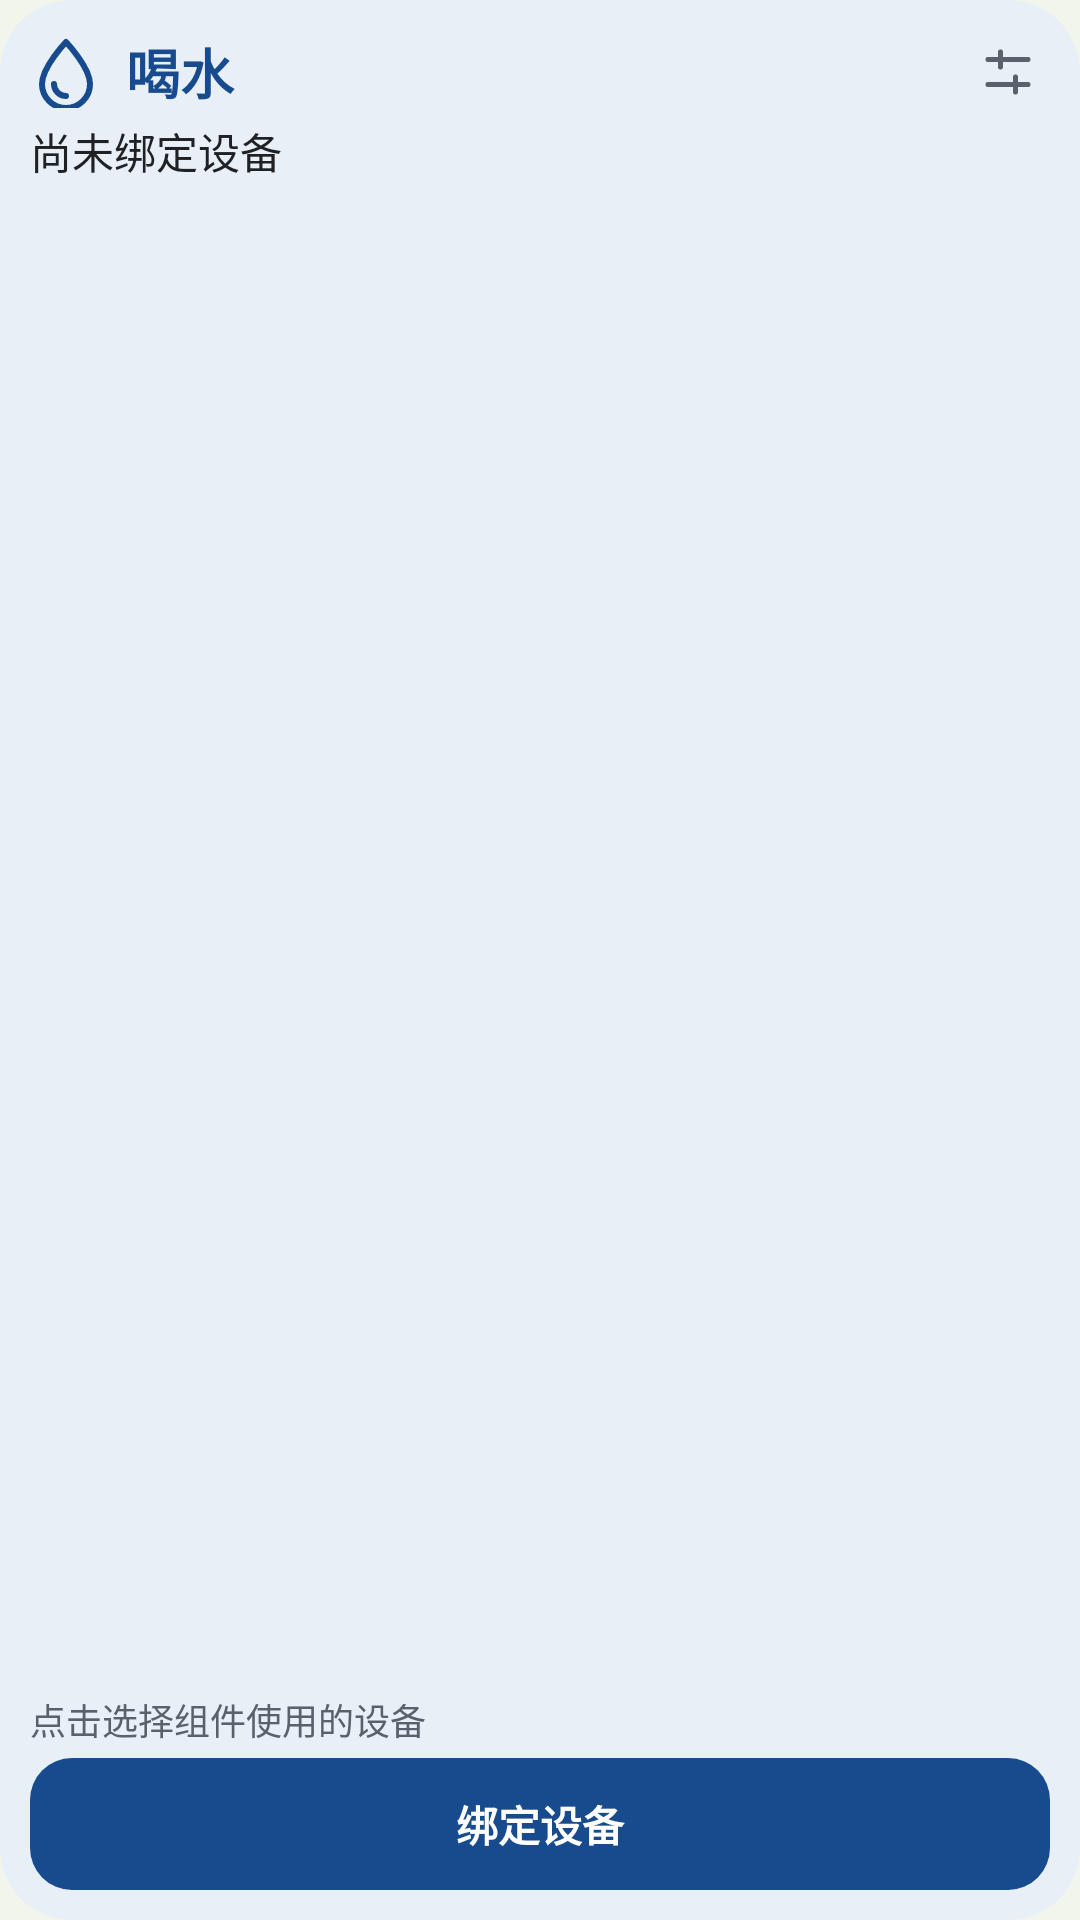

Icons on this 1080 × 1920 Android screen, each with the point to tap as (x=x, y=y):
widget water: (x=66, y=73)
